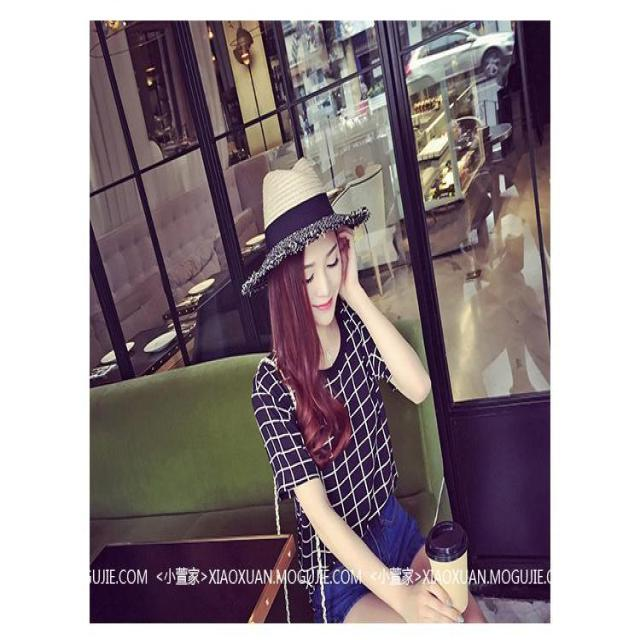short sleeve top: (253, 305, 405, 607)
shorts: (310, 485, 429, 623)
